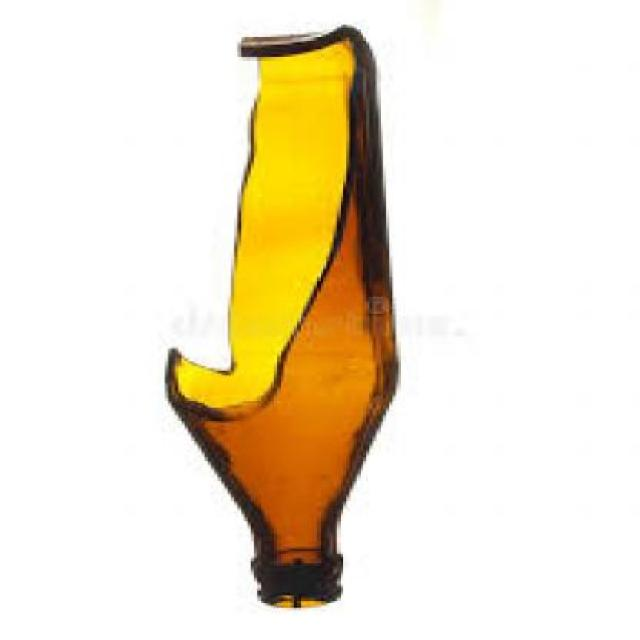kaca: (166, 20, 397, 605)
